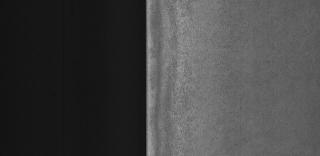silk spot: (162, 6, 200, 154)
